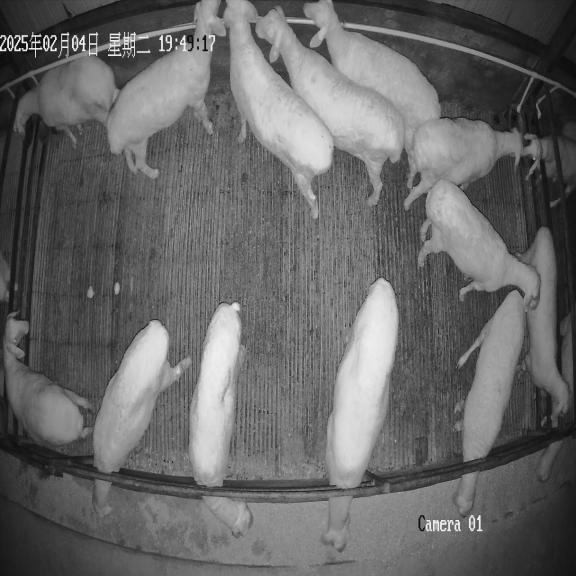drinking: (14, 56, 119, 146)
eating: (321, 278, 398, 552), (92, 320, 191, 516), (455, 290, 526, 517), (189, 302, 252, 537)
stand: (255, 6, 405, 206), (223, 0, 333, 218), (304, 0, 440, 162), (106, 0, 226, 179), (418, 180, 540, 310), (2, 313, 92, 447), (404, 118, 524, 210), (521, 227, 568, 422)
